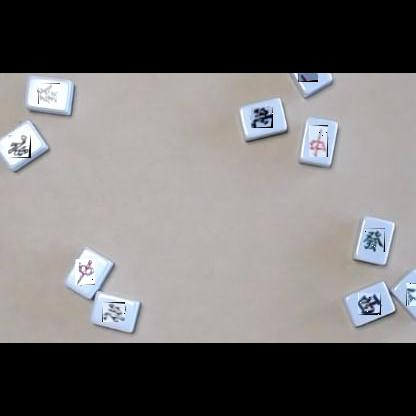3z: (358, 293, 381, 315)
4z: (8, 134, 31, 158), (251, 107, 273, 128), (102, 302, 125, 322)
6z: (363, 228, 385, 252), (38, 83, 60, 104), (406, 283, 416, 306)
7z: (309, 125, 328, 157), (75, 259, 95, 285), (298, 73, 318, 82)
